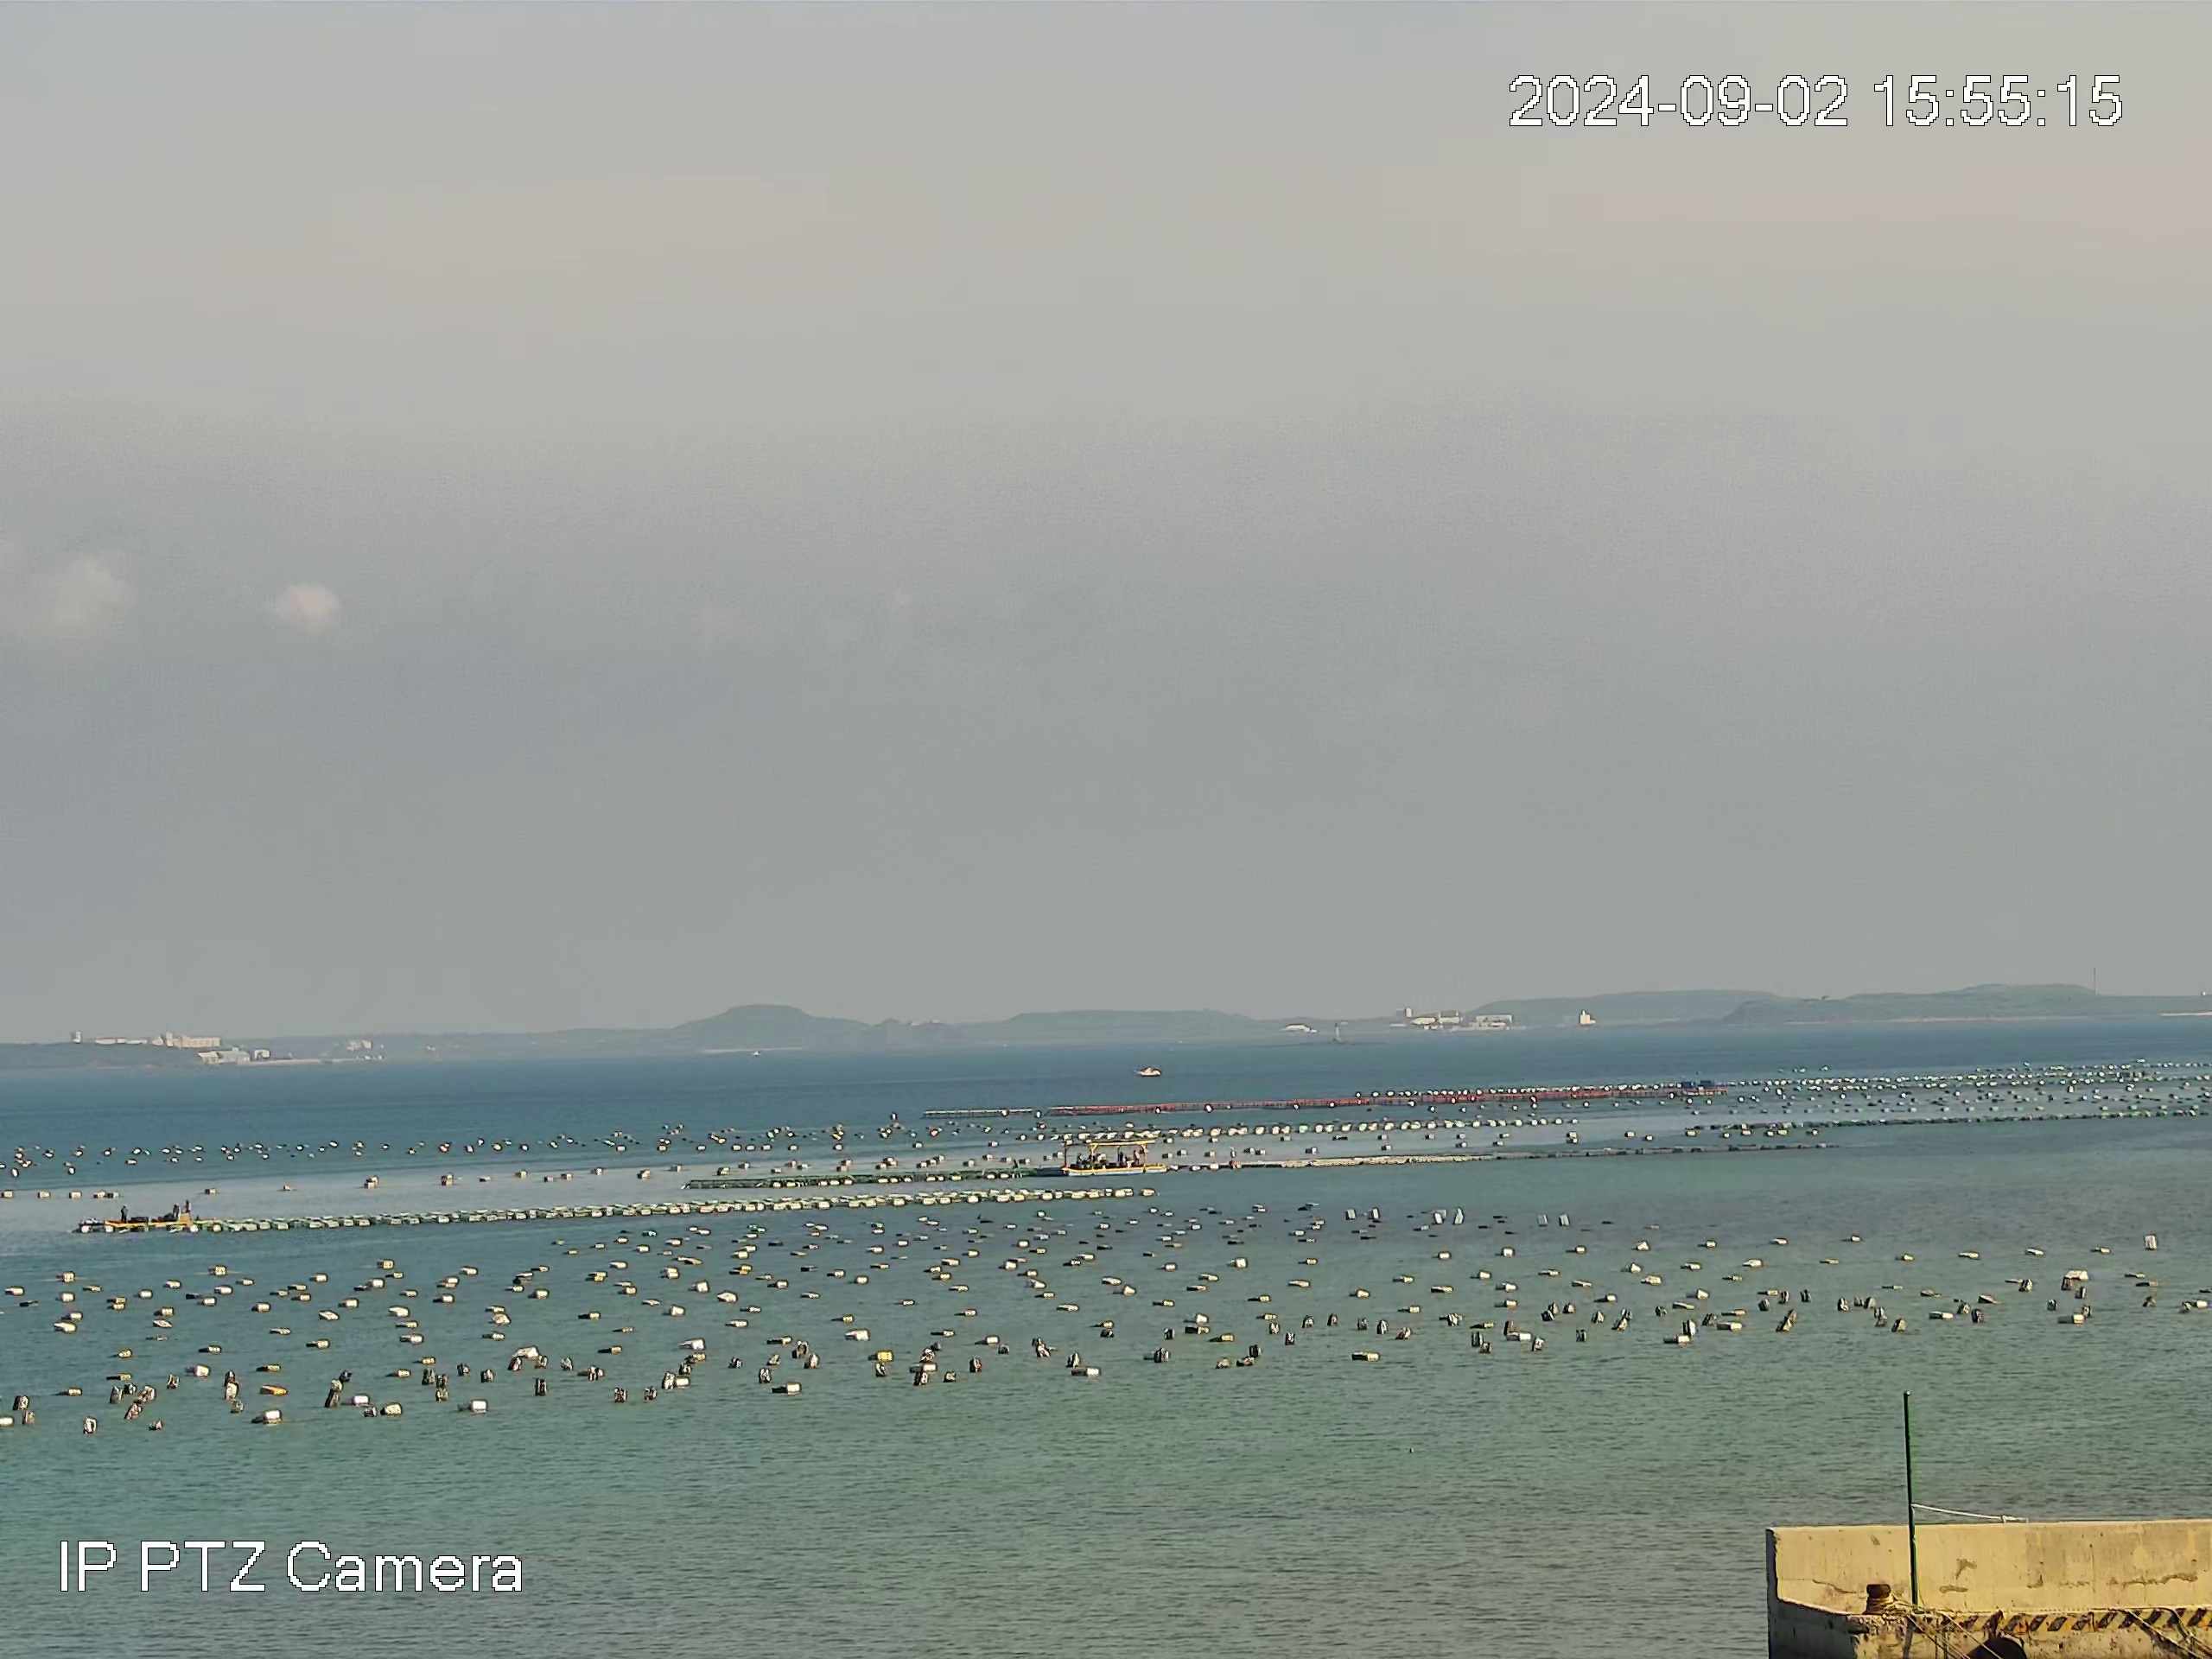boat: (1059, 1136, 1169, 1178), (103, 1197, 199, 1225), (1132, 1063, 1163, 1077)
